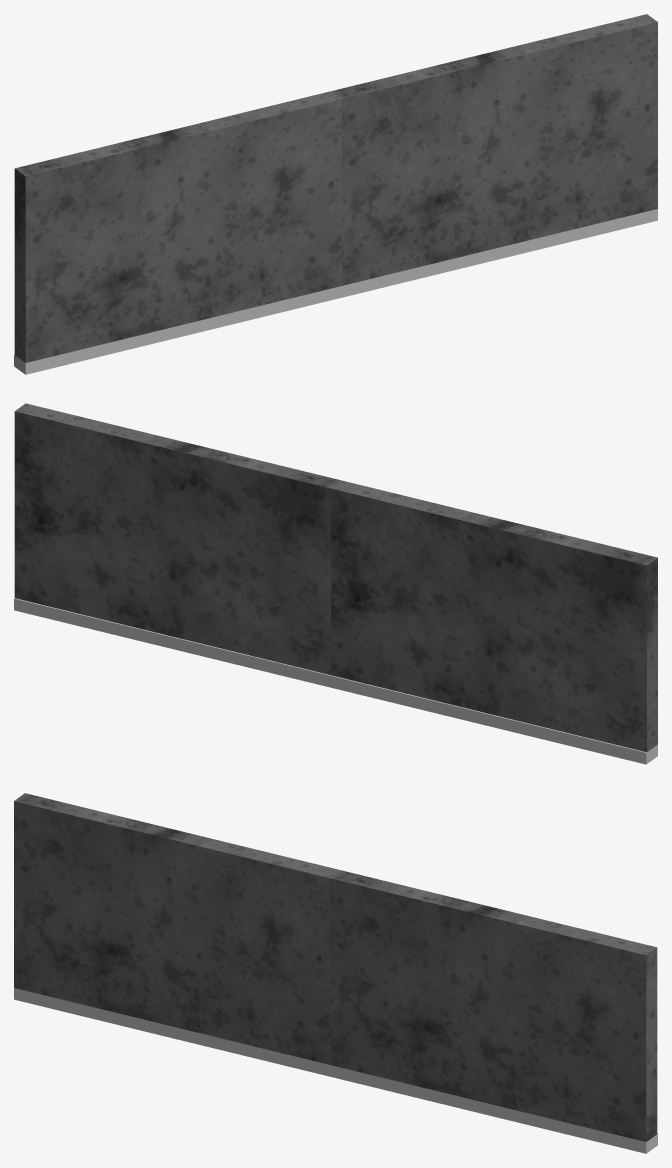
Rendered from muraupif.fbx.
The picture shows the model from 3 angles, top to bottom: view 1: azimuth 30°, elevation 25°; view 2: azimuth 150°, elevation 25°; view 3: azimuth 330°, elevation 25°; orthographic projection.
Parts seen in each view (by area): view 1: Mur de base déplié001, Mur de base déplié, bordure001, bordure; view 2: Mur de base déplié001, Mur de base déplié, bordure001, bordure; view 3: Mur de base déplié, Mur de base déplié001, bordure, bordure001.
Boxes of the visible parts, <box> form: Mur de base déplié001: <box>14,91,341,362</box>; Mur de base déplié: <box>331,14,657,285</box>; bordure001: <box>14,286,341,374</box>; bordure: <box>342,209,657,297</box>; Mur de base déplié001: <box>331,480,657,752</box>; Mur de base déplié: <box>14,403,341,674</box>; bordure001: <box>330,675,657,764</box>; bordure: <box>14,598,330,687</box>; Mur de base déplié: <box>330,870,657,1141</box>; Mur de base déplié001: <box>14,793,340,1064</box>; bordure: <box>330,1065,657,1153</box>; bordure001: <box>14,988,329,1076</box>.
Bounding box in the file's own units: 1000 × 300 × 32.
